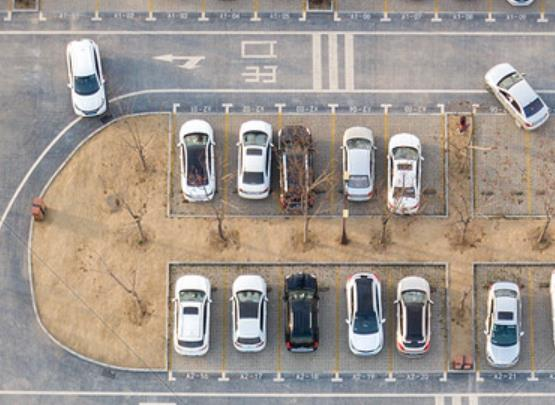car: (479, 61, 550, 134), (339, 271, 388, 358), (60, 37, 110, 119), (176, 117, 221, 203), (168, 274, 213, 358), (484, 279, 524, 369), (394, 275, 435, 358), (385, 130, 425, 215), (227, 273, 270, 352), (234, 119, 274, 203), (282, 271, 321, 356), (276, 125, 314, 210), (338, 124, 377, 203)
